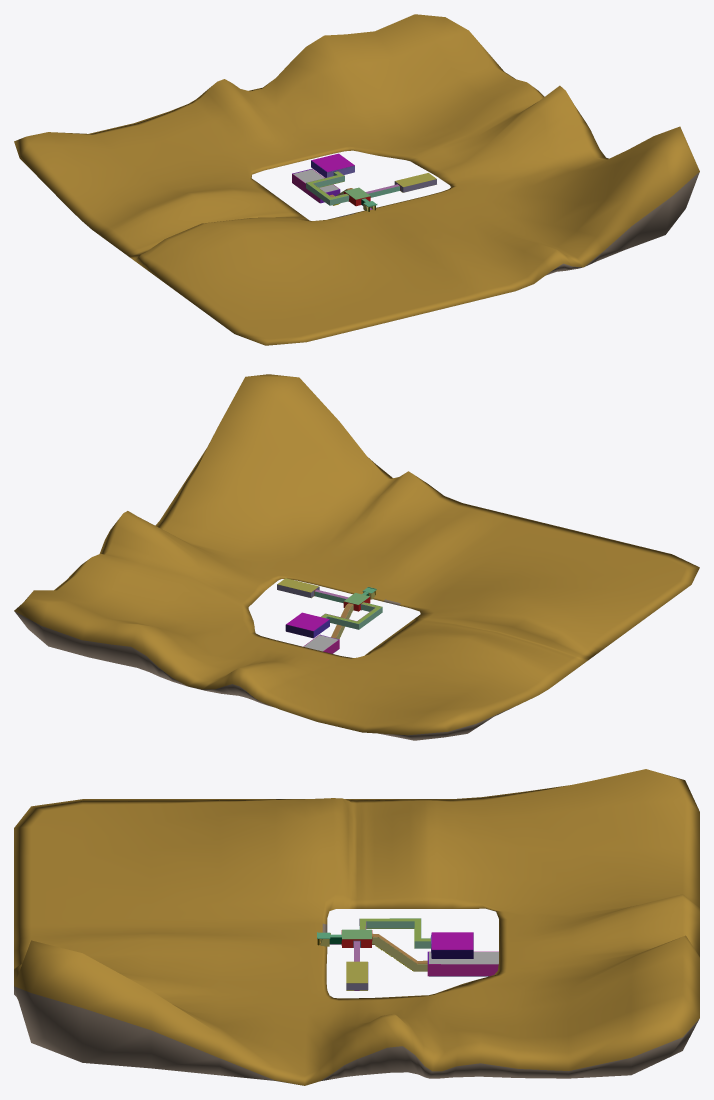
File: pyramide02test.fbx
3 renders of one model, top to bottom at view 1: azimuth 30°, elevation 25°; view 2: azimuth 150°, elevation 25°; view 3: azimuth 270°, elevation 25°, orthographic. The views are drawn at different scales.
Parts seen in each view (by area): view 1: floor_desert, pPlane19; view 2: floor_desert; view 3: floor_desert, pCube170, pCube19, plafond_salletrone_momie1, pPlane19, pCube184, pCube47.
Part boxes in pixels (box(x1,y1,x2,y2)): floor_desert: box(14, 14, 699, 345); pPlane19: box(306, 171, 348, 205); floor_desert: box(14, 374, 699, 740); floor_desert: box(14, 769, 699, 1085); pCube170: box(427, 951, 498, 976); pCube19: box(431, 932, 473, 949); plafond_salletrone_momie1: box(429, 952, 498, 964); pPlane19: box(359, 918, 430, 948); pCube184: box(372, 937, 427, 971); pCube47: box(346, 961, 367, 983).
Size of the model in its own units: 1086 by 269 by 1083.
